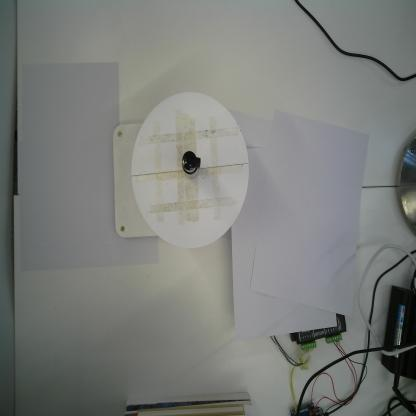Stationery: (181, 150, 202, 180)
